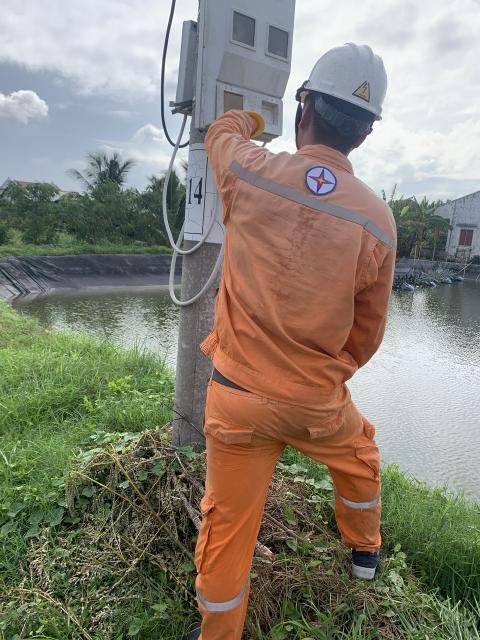harness: (233, 105, 276, 142)
helmet: (287, 23, 411, 128)
